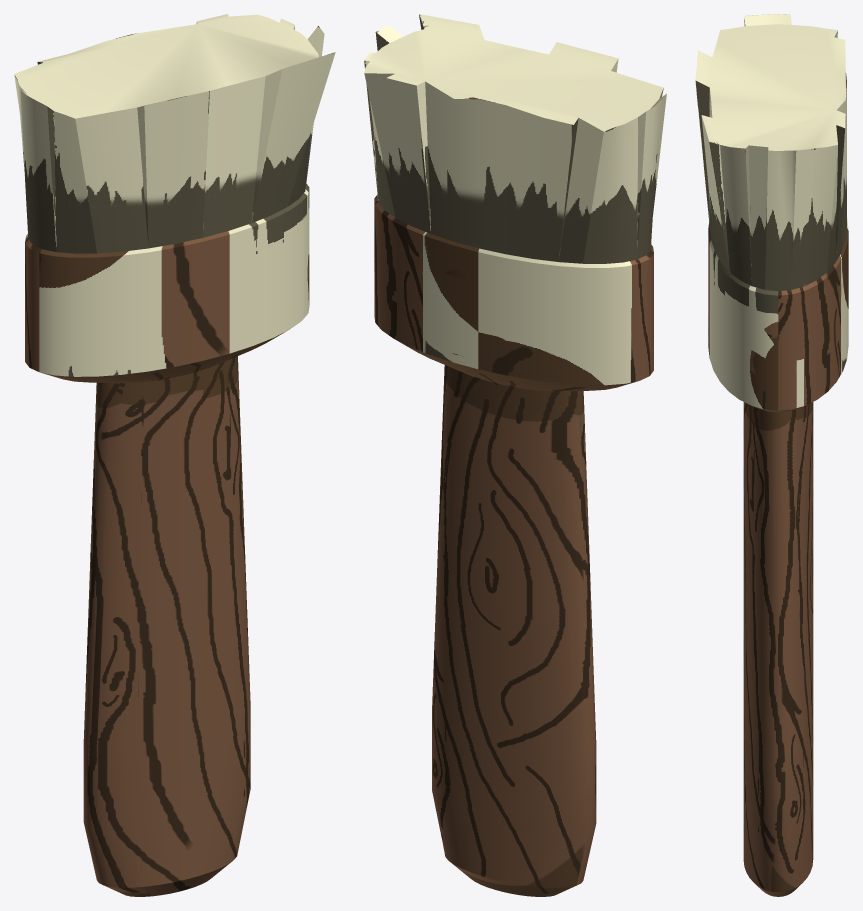
The model's file is paintbrush.fbx.
3 renders of one model, left to right at view 1: azimuth 30°, elevation 25°; view 2: azimuth 150°, elevation 25°; view 3: azimuth 270°, elevation 25°, orthographic. The views are drawn at different scales.
Parts seen in each view (by area): view 1: Cylinder, Cylinder.001; view 2: Cylinder, Cylinder.001; view 3: Cylinder, Cylinder.001.
Boxes of the visible parts, x1=… form: Cylinder: x1=14, y1=14, x2=335, y2=896; Cylinder.001: x1=25, y1=183, x2=309, y2=376; Cylinder: x1=364, y1=14, x2=666, y2=896; Cylinder.001: x1=374, y1=195, x2=653, y2=385; Cylinder: x1=695, y1=14, x2=846, y2=896; Cylinder.001: x1=708, y1=218, x2=848, y2=410.
Size of the model in its own units: 457 by 1253 by 218.
Materials: 1 (1 with a texture image).
